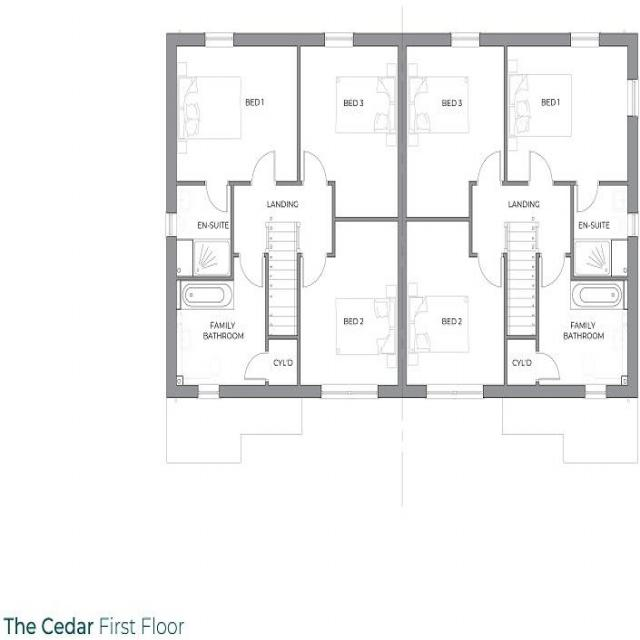DOOR: (536, 252, 572, 290), (471, 149, 506, 187), (248, 148, 279, 187), (298, 149, 331, 185), (523, 149, 556, 185), (475, 253, 505, 292), (299, 253, 329, 291), (240, 347, 268, 386), (238, 254, 266, 292), (573, 180, 602, 215), (203, 181, 232, 215)
ROOM: (165, 32, 301, 217), (503, 32, 638, 216), (296, 32, 407, 223), (397, 30, 508, 221), (397, 214, 508, 401), (298, 217, 408, 399)
WINDOW: (315, 383, 381, 402), (422, 382, 488, 401), (202, 31, 235, 51), (448, 30, 482, 49), (626, 76, 640, 121), (567, 31, 601, 49), (321, 31, 356, 47), (580, 383, 609, 400), (195, 383, 223, 400), (626, 208, 640, 241)
